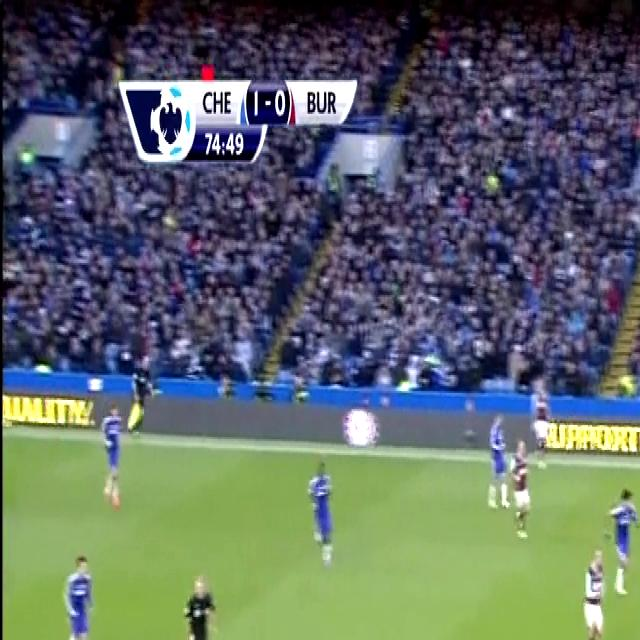referee: (172, 556, 218, 640), (122, 341, 160, 438)
soccer-player: (299, 446, 340, 578), (599, 474, 640, 602), (93, 396, 131, 516), (52, 540, 96, 640), (508, 430, 544, 546), (573, 540, 613, 640), (480, 402, 512, 520), (528, 370, 558, 469)
